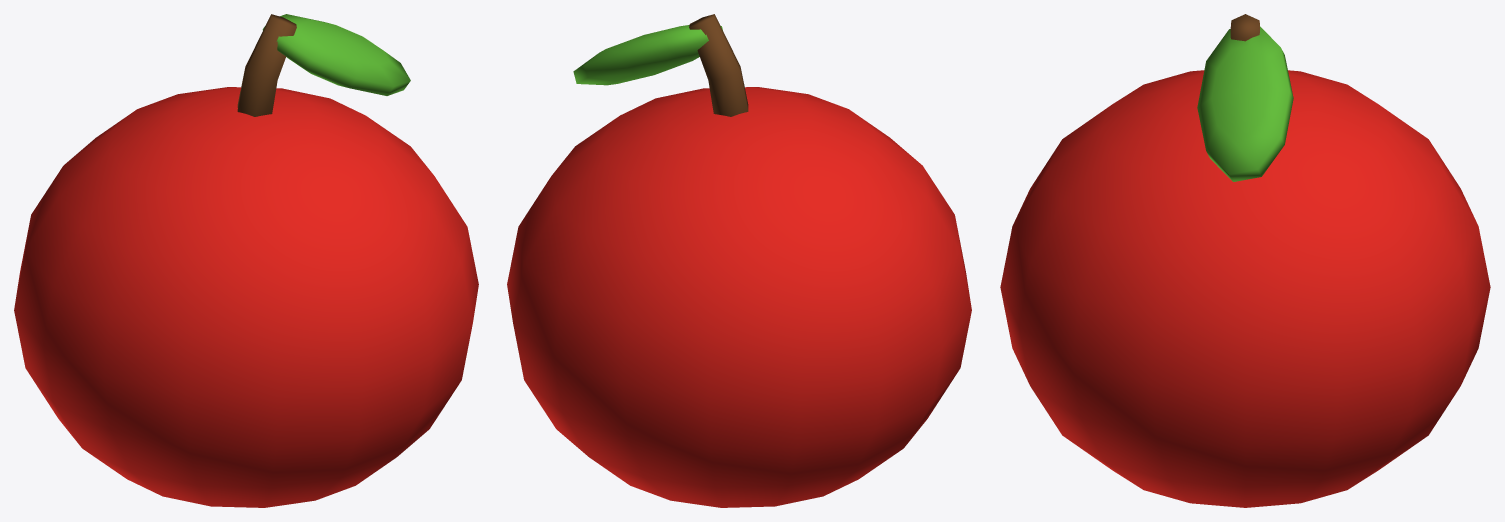
File: food_apple.glb
3 views of the same model, side by side, from view 1: azimuth 30°, elevation 25°; view 2: azimuth 150°, elevation 25°; view 3: azimuth 270°, elevation 25° (orthographic). The views are drawn at different scales.
Visible parts, largest first — view 1: food_apple; view 2: food_apple; view 3: food_apple.
Boxes of the visible parts, box(x1,y1,x2,y2) form: food_apple: box(14, 14, 478, 507); food_apple: box(507, 14, 971, 507); food_apple: box(1000, 14, 1490, 507).
Bounding box in the file's own units: 0.27 × 0.294 × 0.27.
